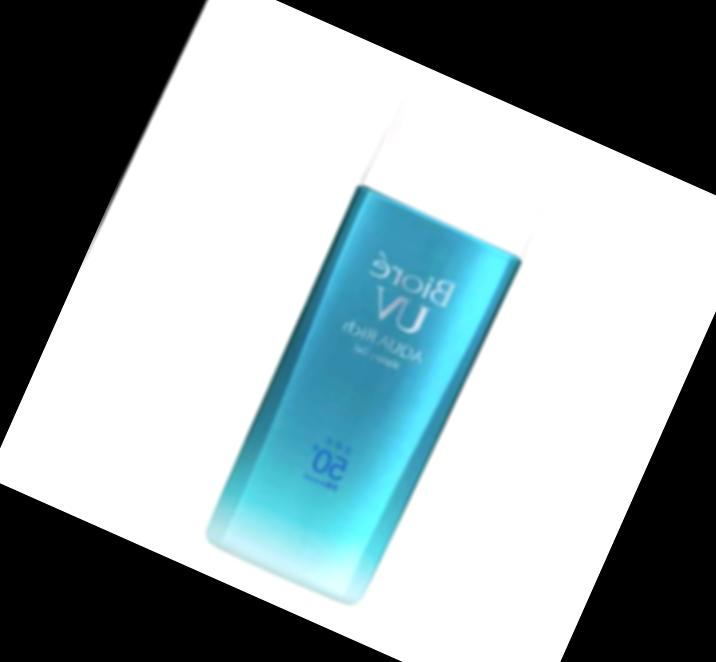cosmetic: (191, 73, 580, 620)
